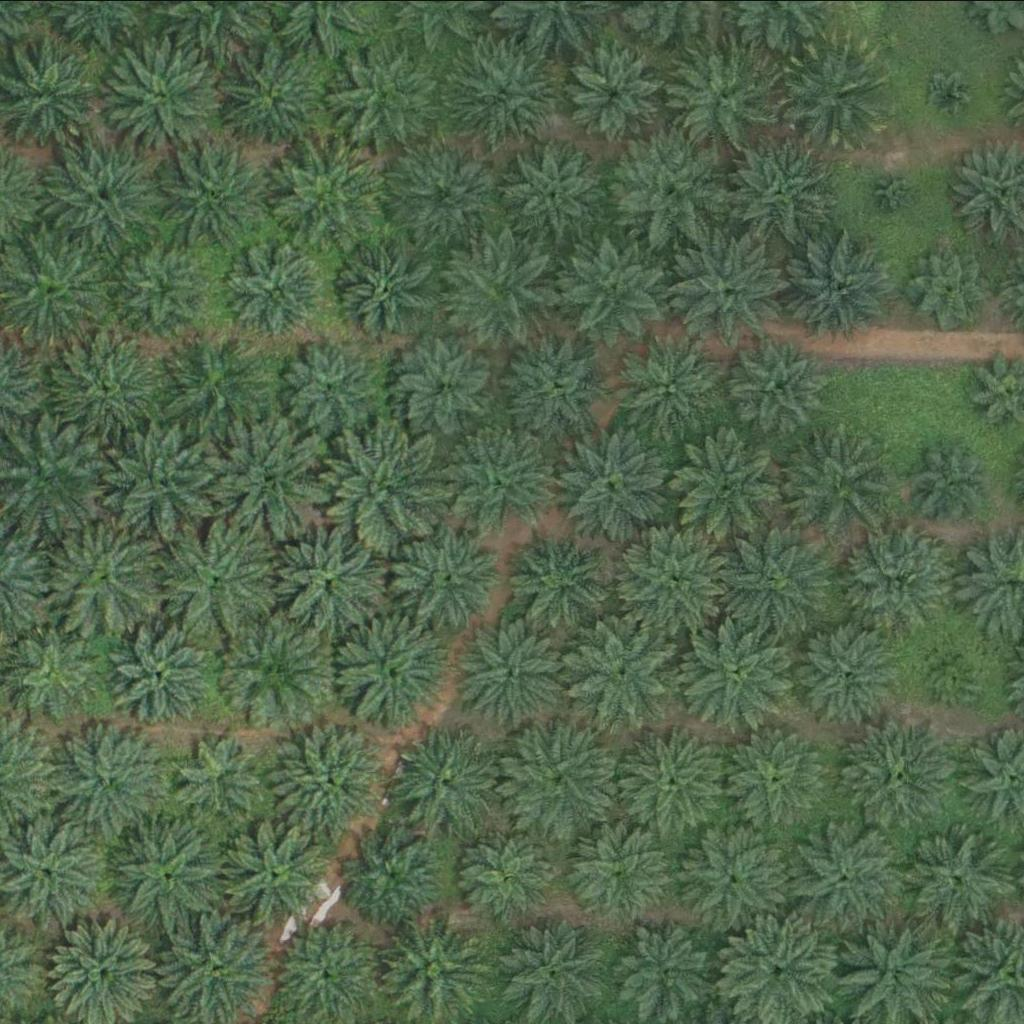Kelapa_Sawit: (154, 135, 268, 248), (330, 37, 444, 150), (450, 34, 564, 147), (839, 520, 953, 633), (680, 614, 794, 727), (109, 816, 222, 929), (214, 815, 327, 928), (274, 721, 387, 834), (333, 611, 446, 724), (49, 520, 162, 633), (108, 425, 221, 538), (214, 423, 327, 536), (329, 429, 442, 542), (47, 134, 160, 247), (108, 40, 221, 153), (217, 38, 330, 151), (560, 230, 673, 343), (673, 230, 786, 343), (788, 227, 901, 340), (609, 332, 722, 445), (620, 516, 733, 629), (715, 522, 828, 635), (455, 615, 568, 728), (571, 611, 684, 724), (390, 724, 503, 837), (504, 719, 617, 832), (47, 325, 161, 437), (279, 135, 393, 247), (618, 719, 732, 831), (777, 37, 890, 149), (56, 725, 169, 837), (219, 613, 332, 725), (161, 519, 274, 631), (267, 521, 380, 633), (162, 328, 275, 440), (388, 139, 501, 251), (667, 39, 780, 151), (613, 139, 726, 251), (720, 135, 833, 247), (442, 236, 555, 348), (446, 424, 559, 536), (557, 427, 670, 539), (669, 422, 782, 534), (776, 423, 889, 535), (391, 517, 504, 629), (844, 717, 957, 829), (681, 818, 794, 930), (791, 814, 904, 926), (900, 820, 1013, 932), (341, 826, 442, 926), (174, 726, 275, 826), (107, 626, 208, 726), (279, 336, 380, 436), (398, 334, 499, 434), (340, 234, 441, 334), (564, 42, 665, 142), (505, 140, 606, 240), (502, 334, 603, 434), (729, 333, 830, 433), (508, 524, 609, 624), (227, 239, 327, 339), (797, 619, 897, 719), (728, 726, 828, 826), (460, 825, 560, 925), (574, 820, 674, 920), (618, 917, 718, 1017), (124, 245, 212, 333), (909, 241, 997, 328), (919, 440, 995, 515), (922, 636, 985, 698), (867, 163, 918, 213), (923, 69, 974, 119)
